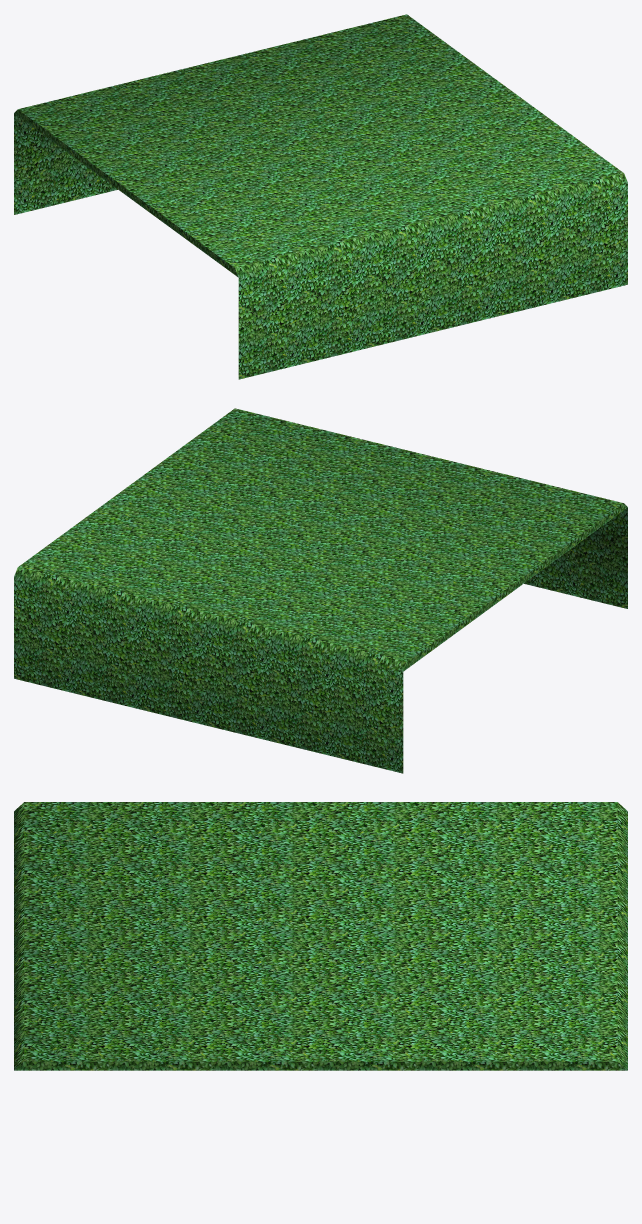
The model's file is Hedge02d.FBX.
The picture shows the model from 3 angles, top to bottom: view 1: azimuth 30°, elevation 25°; view 2: azimuth 150°, elevation 25°; view 3: azimuth 270°, elevation 25°; orthographic projection. The views are drawn at different scales.
Visible parts, largest first — view 1: Hedge02d; view 2: Hedge02d; view 3: Hedge02d.
Part boxes in pixels (x1,y1,x2,y2): Hedge02d: [14, 14, 627, 379]; Hedge02d: [14, 408, 627, 773]; Hedge02d: [14, 802, 627, 1070].
Bounding box in the file's own units: 300 × 80 × 300.
Materials: 1 (1 with a texture image).
